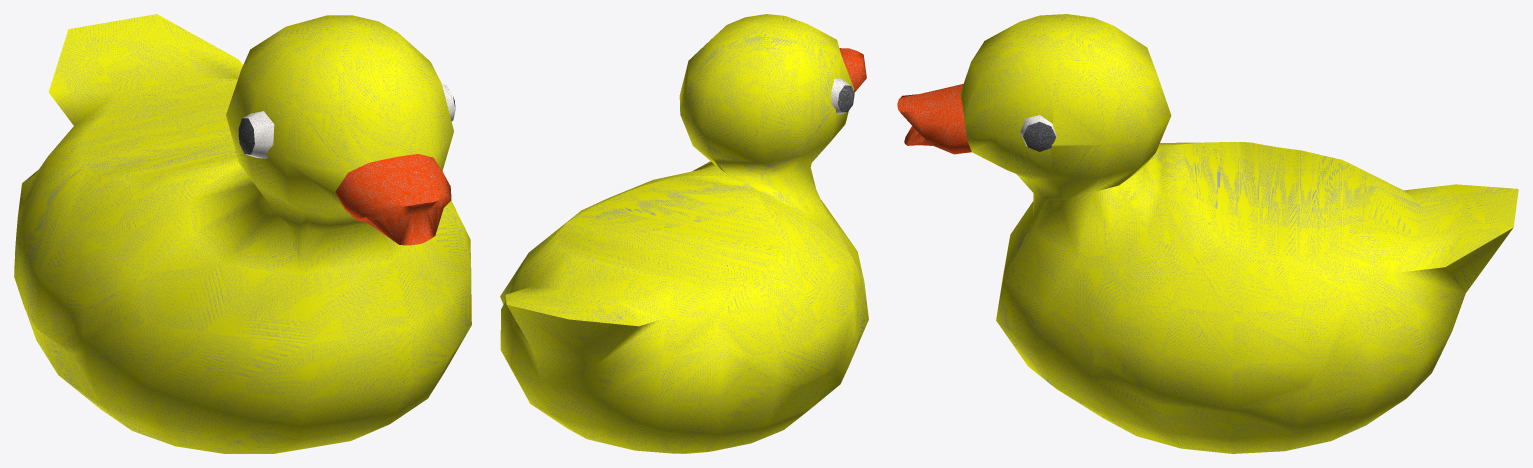
The picture shows the model from 3 angles, left to right: view 1: azimuth 30°, elevation 25°; view 2: azimuth 150°, elevation 25°; view 3: azimuth 270°, elevation 25°; orthographic projection. The views are drawn at different scales.
Visible parts, largest first — view 1: skp7c33 (×4); view 2: skp7c33 (×2); view 3: skp7c33 (×3).
Part boxes in pixels (left/top/right/bottom): skp7c33 (×4): left=14, top=14, right=471, bottom=453; skp7c33 (×2): left=500, top=14, right=868, bottom=453; skp7c33 (×3): left=897, top=14, right=1518, bottom=453.
Size of the model in its own units: 47.37 by 75.81 by 52.82.
